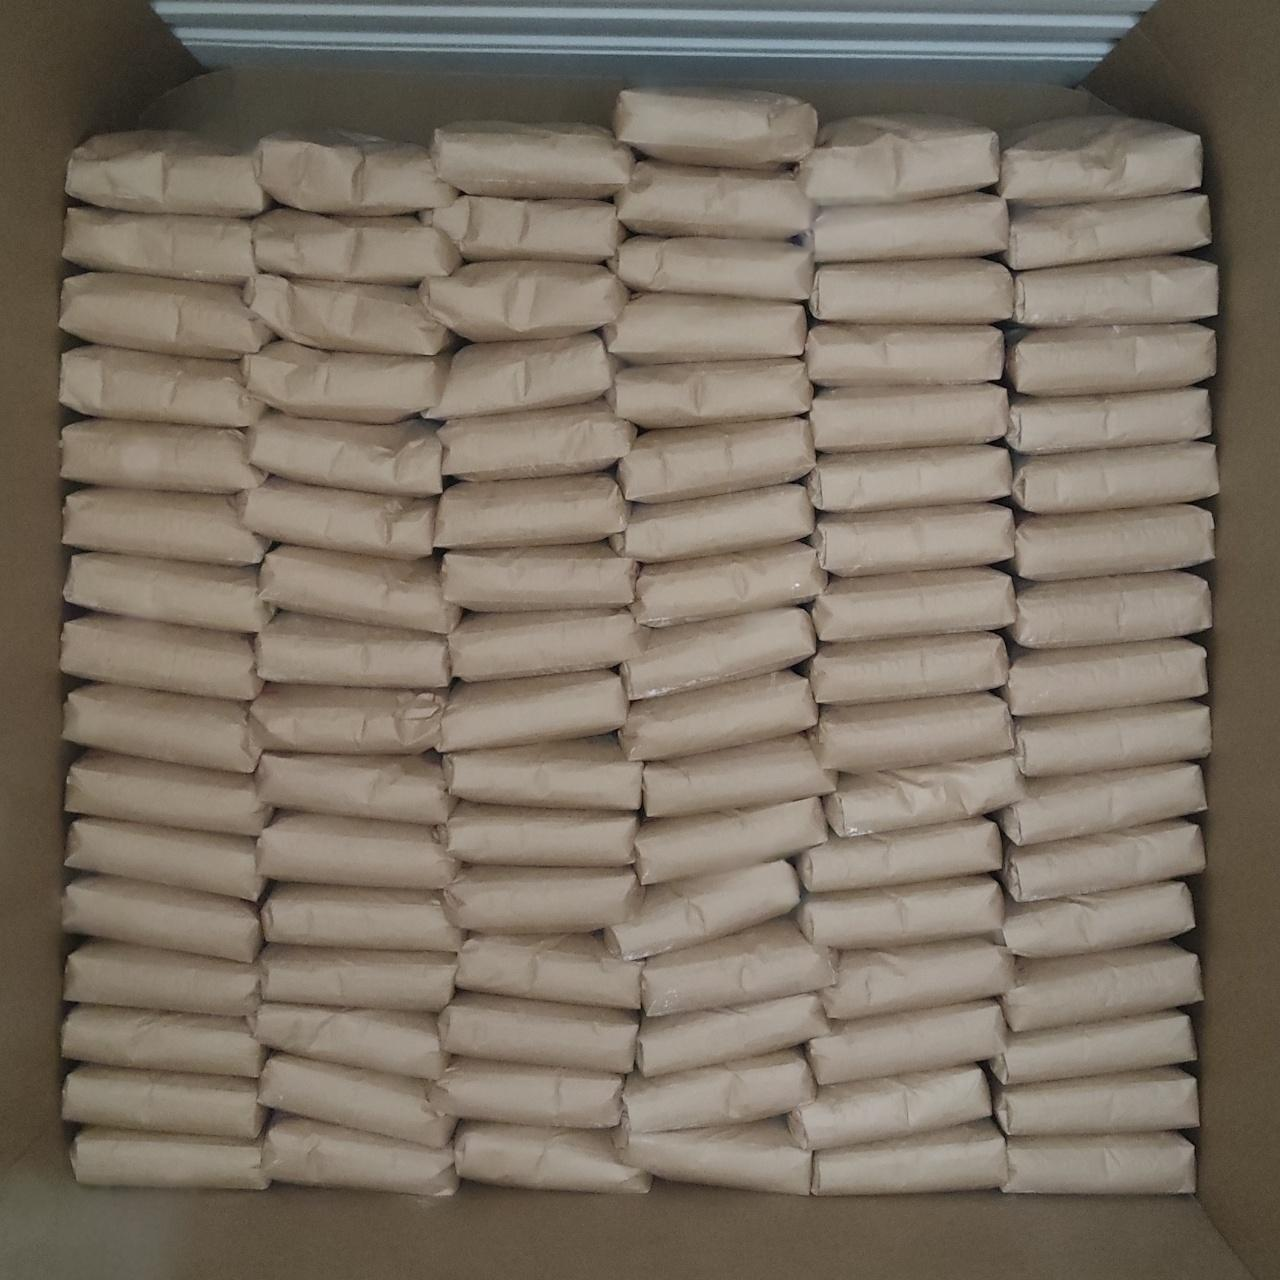sack: (605, 860, 799, 960), (642, 915, 833, 1016), (799, 114, 999, 206), (998, 116, 1201, 206), (263, 1053, 454, 1148), (61, 273, 273, 358), (620, 608, 815, 700), (260, 545, 459, 634), (64, 750, 271, 836), (1003, 942, 1201, 1032), (620, 670, 817, 760), (64, 685, 263, 772), (62, 874, 263, 961), (66, 130, 268, 216), (61, 614, 261, 700), (243, 341, 451, 423), (998, 763, 1206, 845), (791, 1065, 990, 1151), (806, 1000, 1005, 1085), (243, 274, 451, 355), (418, 261, 628, 341), (66, 817, 264, 901), (436, 397, 636, 481), (61, 346, 264, 428), (63, 553, 272, 633), (613, 87, 818, 168), (634, 798, 828, 884), (632, 542, 828, 626), (254, 132, 455, 215), (617, 418, 813, 502), (622, 1048, 813, 1133), (248, 411, 442, 496), (1002, 821, 1204, 901), (828, 754, 1023, 837), (422, 333, 614, 417), (62, 488, 268, 566), (263, 1112, 457, 1196), (810, 693, 1013, 772), (251, 207, 459, 285), (240, 476, 435, 558), (1001, 639, 1207, 716), (611, 484, 813, 563), (435, 670, 628, 753), (617, 159, 812, 240), (636, 994, 826, 1077), (440, 993, 638, 1073), (1003, 193, 1210, 270), (644, 735, 833, 817), (430, 122, 634, 198), (257, 812, 457, 890), (1009, 571, 1211, 647), (821, 938, 1013, 1017), (797, 876, 1005, 949), (798, 817, 1002, 892), (811, 567, 1014, 642), (615, 1116, 811, 1193), (61, 418, 263, 493), (1012, 505, 1213, 580), (256, 611, 450, 688), (1012, 442, 1218, 515), (62, 1065, 265, 1139), (1007, 324, 1216, 395), (1015, 701, 1210, 777), (805, 192, 1009, 265), (990, 1012, 1194, 1084), (63, 941, 260, 1016), (998, 881, 1194, 956), (62, 1005, 265, 1077), (63, 207, 257, 284), (443, 736, 642, 810), (602, 293, 806, 365), (809, 504, 1013, 576), (256, 753, 455, 825), (809, 632, 1008, 704), (433, 474, 628, 547), (607, 358, 812, 428), (1012, 256, 1217, 326), (254, 1005, 447, 1080), (810, 1121, 1005, 1194), (992, 1067, 1197, 1136), (445, 611, 649, 680), (455, 1121, 651, 1192), (261, 883, 462, 952), (804, 445, 1012, 512), (809, 383, 1008, 452), (1005, 387, 1210, 454), (421, 195, 625, 261), (260, 942, 457, 1012), (250, 683, 447, 753), (444, 866, 644, 933), (431, 1057, 624, 1126), (612, 236, 813, 301), (809, 259, 1013, 324), (456, 937, 642, 1007), (441, 543, 636, 610), (804, 324, 1005, 386), (445, 802, 638, 866), (72, 1126, 268, 1189), (1001, 1132, 1194, 1194)
